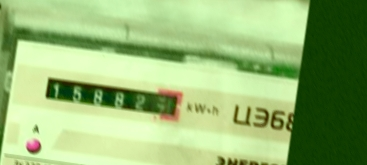1: (48, 80, 60, 97)
2: (132, 91, 144, 109)
5: (69, 83, 81, 101)
7: (153, 101, 164, 113)
8: (111, 89, 123, 107), (90, 87, 102, 104)
screen: (35, 67, 187, 126)
